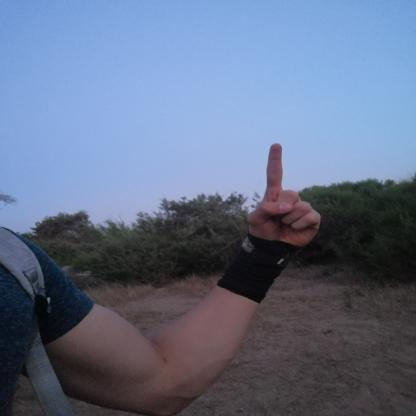BAA: (238, 138, 328, 254)
